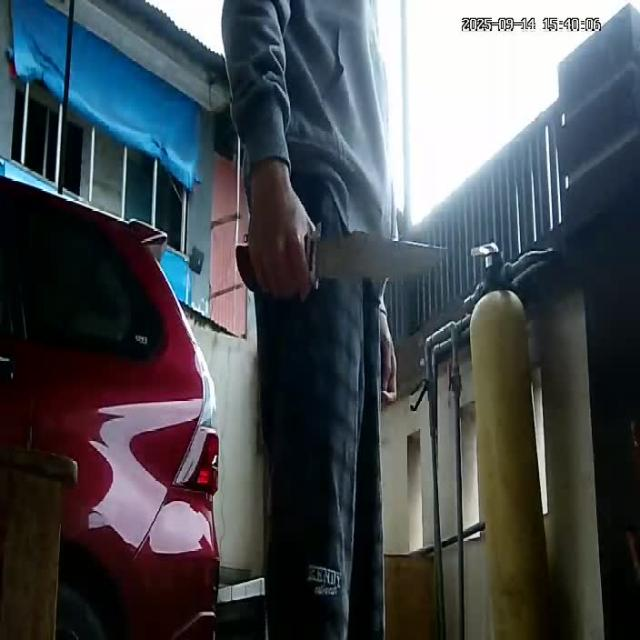senjata_tajam: (304, 220, 449, 284)
